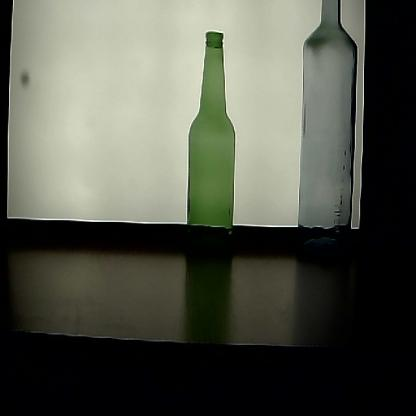Can: (296, 1, 362, 264), (183, 31, 239, 261)
